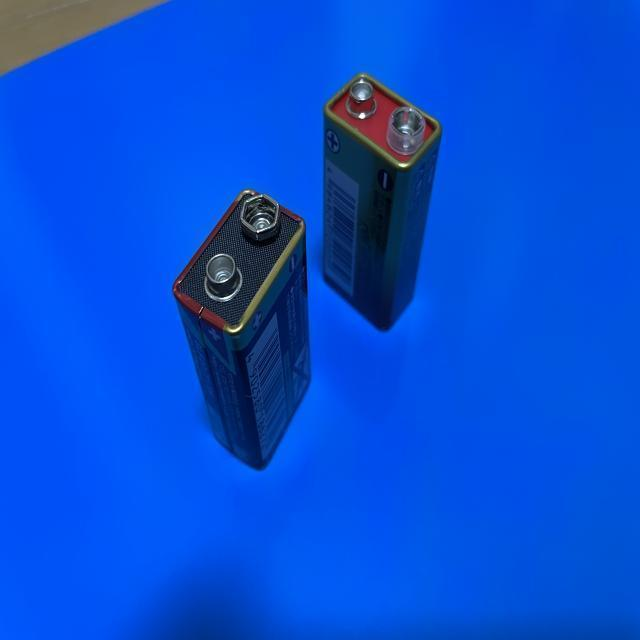9V: (171, 186, 313, 469), (321, 74, 442, 332)
